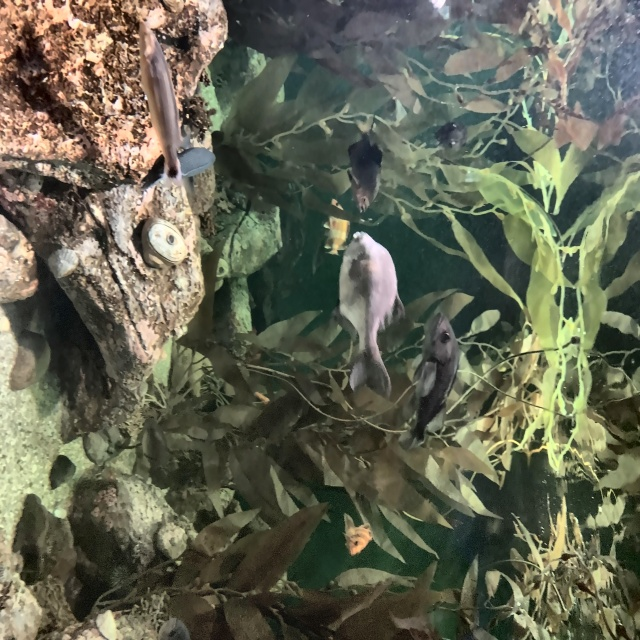fish: (336, 227, 406, 398), (399, 309, 460, 454), (137, 14, 181, 186), (343, 110, 383, 218), (158, 144, 220, 188), (323, 192, 351, 260), (340, 511, 373, 561), (435, 116, 470, 159)
